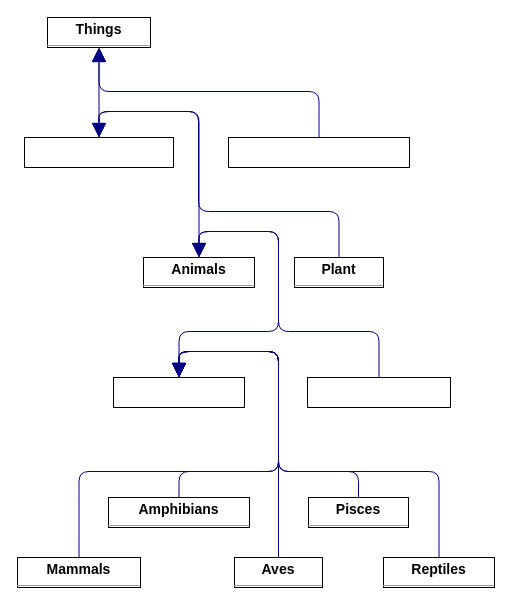
Image size: 512x605. Some labels were removed from this diagram. The shapes that lost their labels are listed below. From the top down, each one's box as (x1, y1, x2, y2) in pixels, then its label:
(24, 136, 174, 168): LivingThings
(228, 136, 410, 168): NonLivingThings
(112, 376, 244, 408): Vertebrate
(306, 376, 450, 408): Invertebrate
